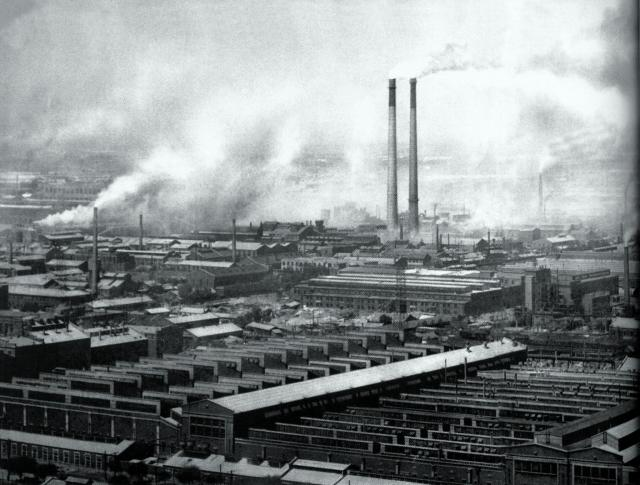dust: (370, 34, 498, 92)
